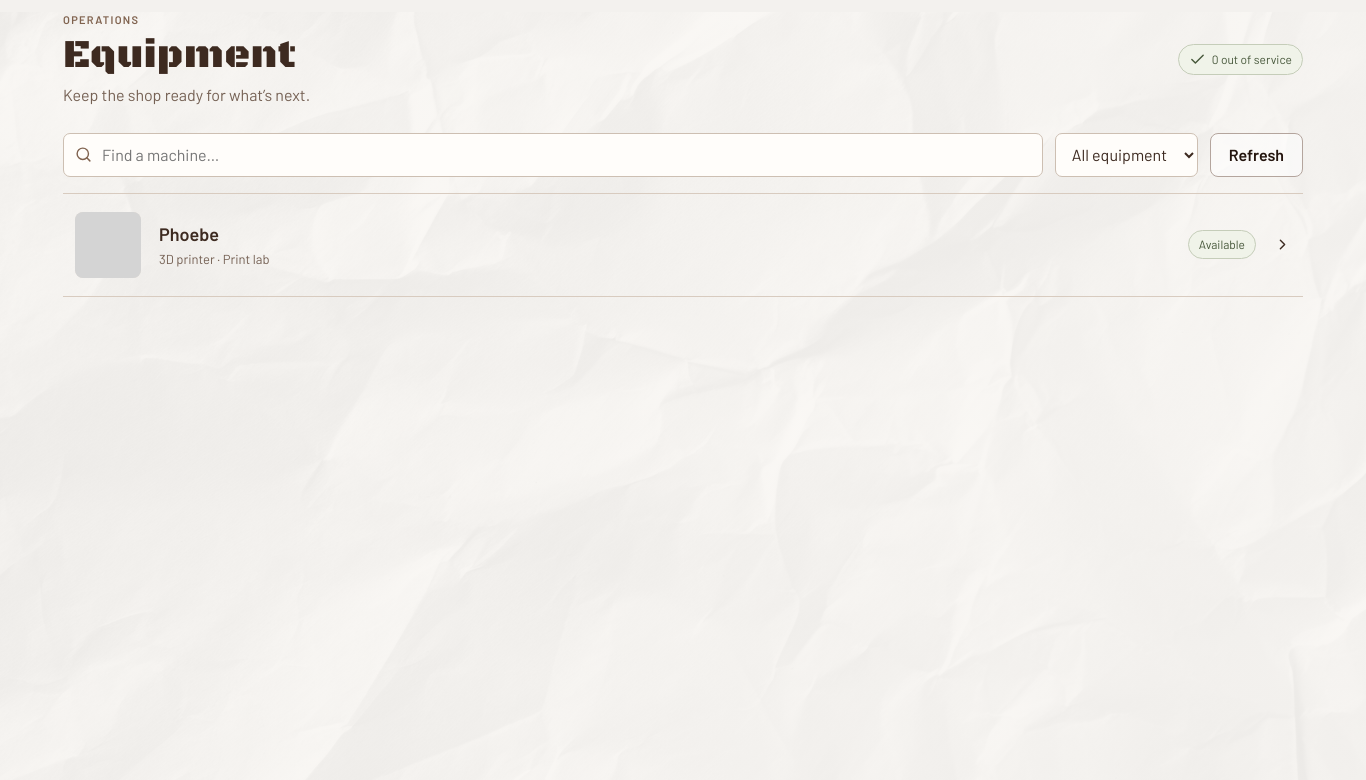
Test: Equipment list links to a permanent machine detail
Click the link "Phoebe 3D printer · Print lab Available" at (108, 244), box [63,194,1303,296]
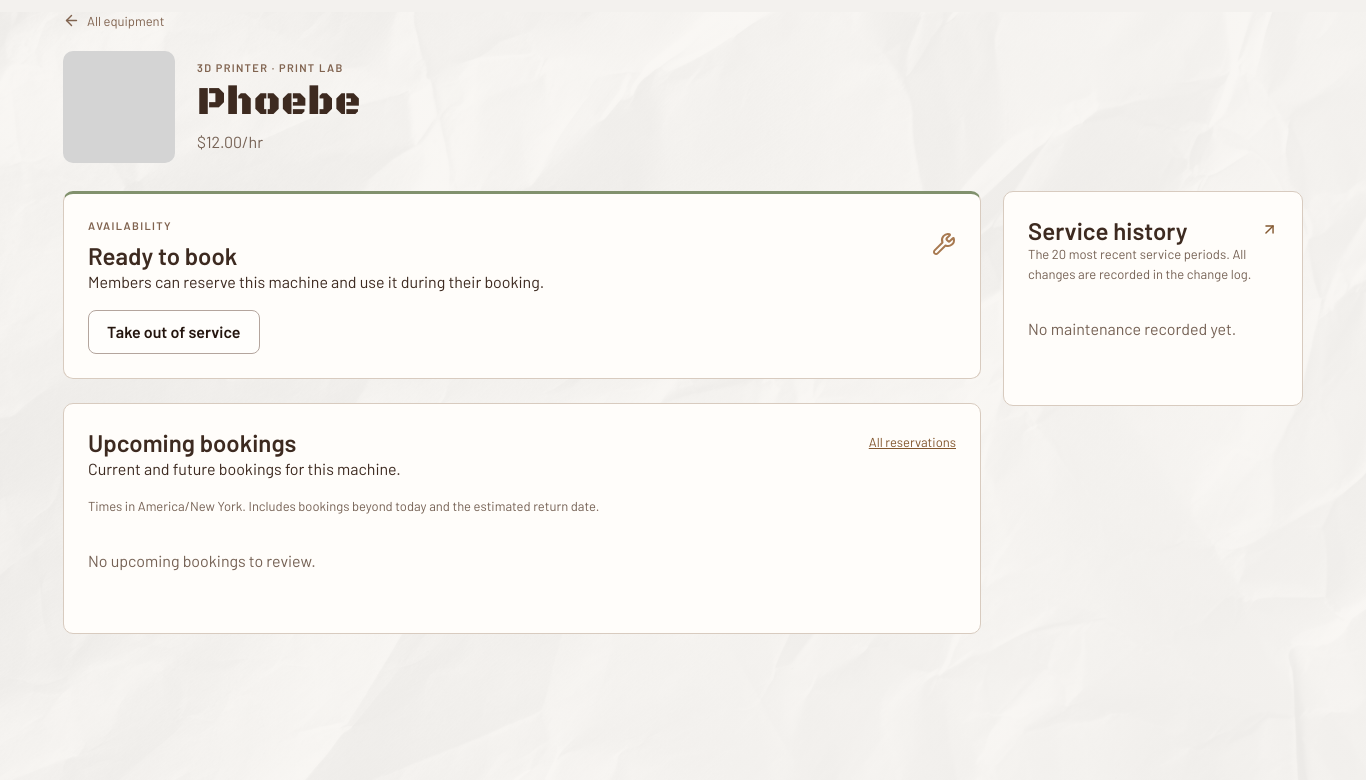
expect the heading "Phoebe" is shown: met, box [197,82,361,122]
